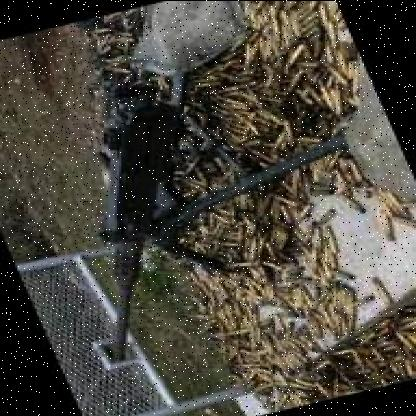rifle: (6, 88, 284, 358)
